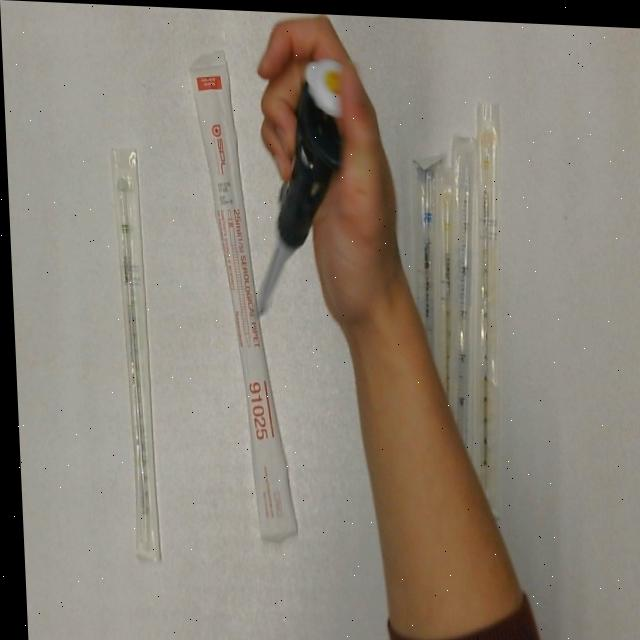Serelogical Pipet 1 mL - Sealed: (452, 94, 520, 511), (422, 159, 468, 412)
Serelogical Pipet 2 mL - Sealed: (111, 145, 159, 565)
Serelogical Pipet 25 mL - Sealed: (183, 42, 298, 543)
Serelogical Pipet 5 mL - Sealed: (424, 128, 496, 609), (393, 142, 456, 626)
Single Channel Pipettor: (241, 52, 363, 329)
